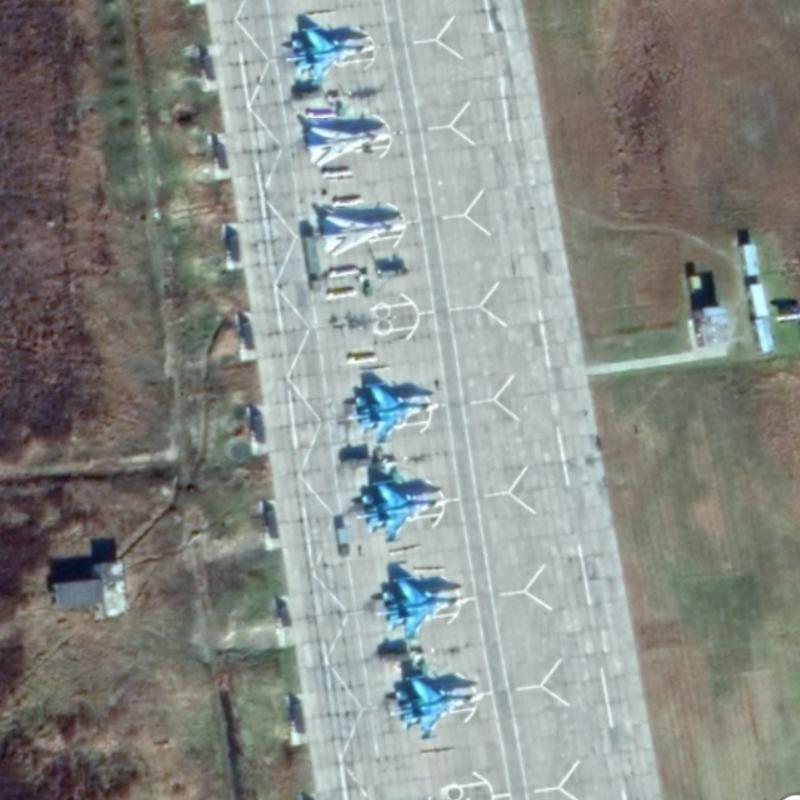A19: (386, 673, 485, 742), (352, 477, 450, 545), (374, 574, 469, 644), (344, 380, 441, 446), (284, 24, 377, 88)
A20: (320, 214, 409, 259), (304, 125, 394, 169)
